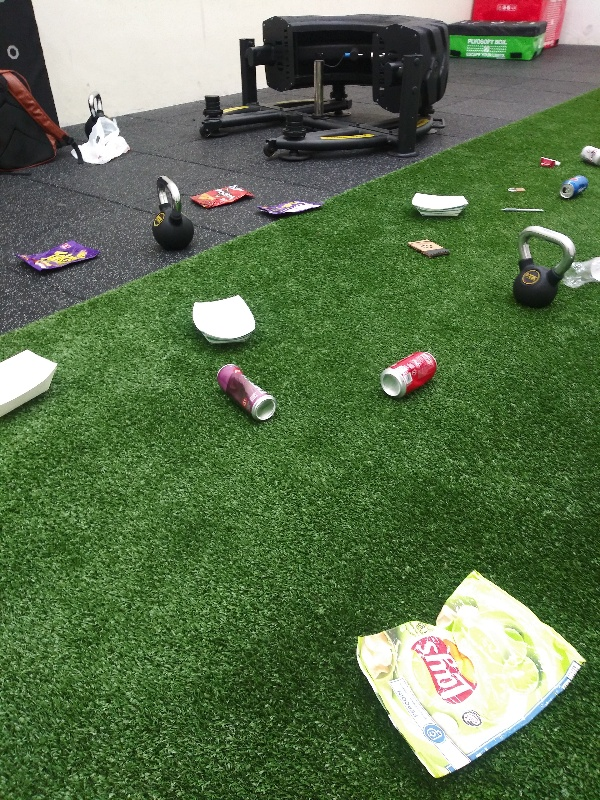bag: (350, 568, 591, 785), (15, 235, 109, 282), (187, 182, 257, 215), (257, 195, 328, 225)
bottle: (564, 255, 600, 296)
can: (210, 359, 279, 424), (378, 346, 441, 400), (555, 170, 590, 203), (576, 143, 600, 168)
plate: (1, 345, 62, 423), (188, 292, 258, 349), (405, 187, 470, 220)
